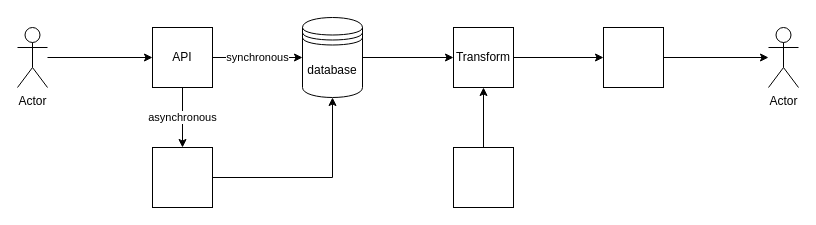
Some shapes in this 816 by 225 pixel diagram are drawn without their labels. The centre of each missing label's shape, as x and y in pixels:
Data Monitoring: the point at 483,177
DataView: the point at 633,57
TaskQueue: the point at 182,177
